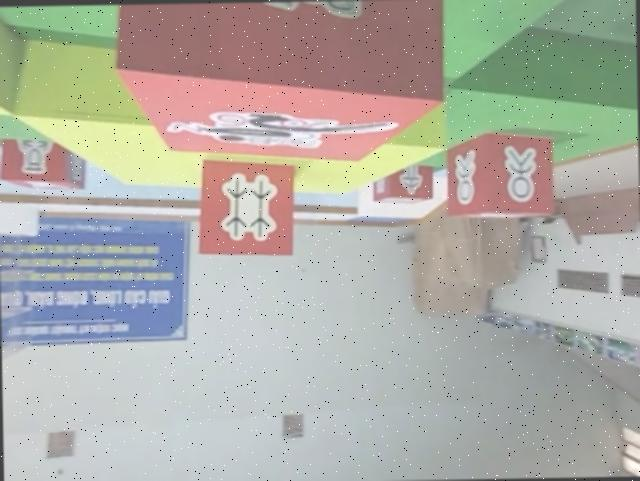R1: (116, 0, 447, 166)
R2 Fake: (374, 154, 434, 203)
R2 Real: (197, 155, 295, 256), (447, 133, 555, 219), (0, 132, 86, 190)
